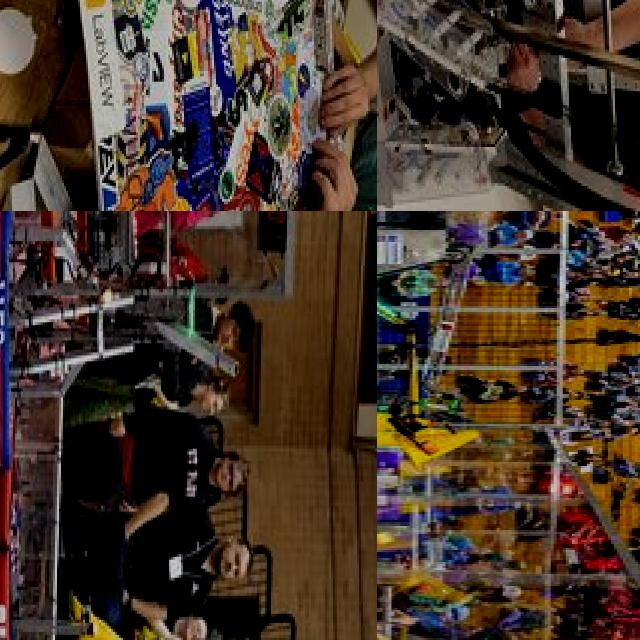FRC-Robots: (0, 0, 377, 211), (0, 211, 251, 461), (377, 0, 640, 211), (377, 211, 488, 476), (0, 451, 59, 640)
